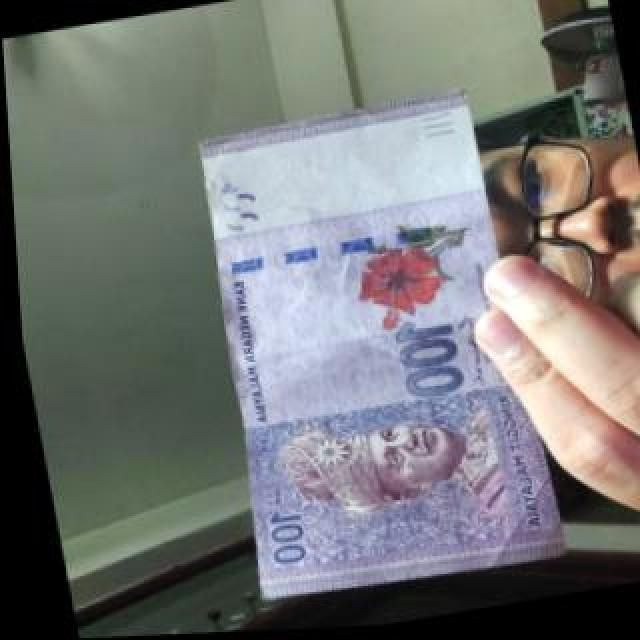100 Ringgit: (174, 78, 560, 619)
